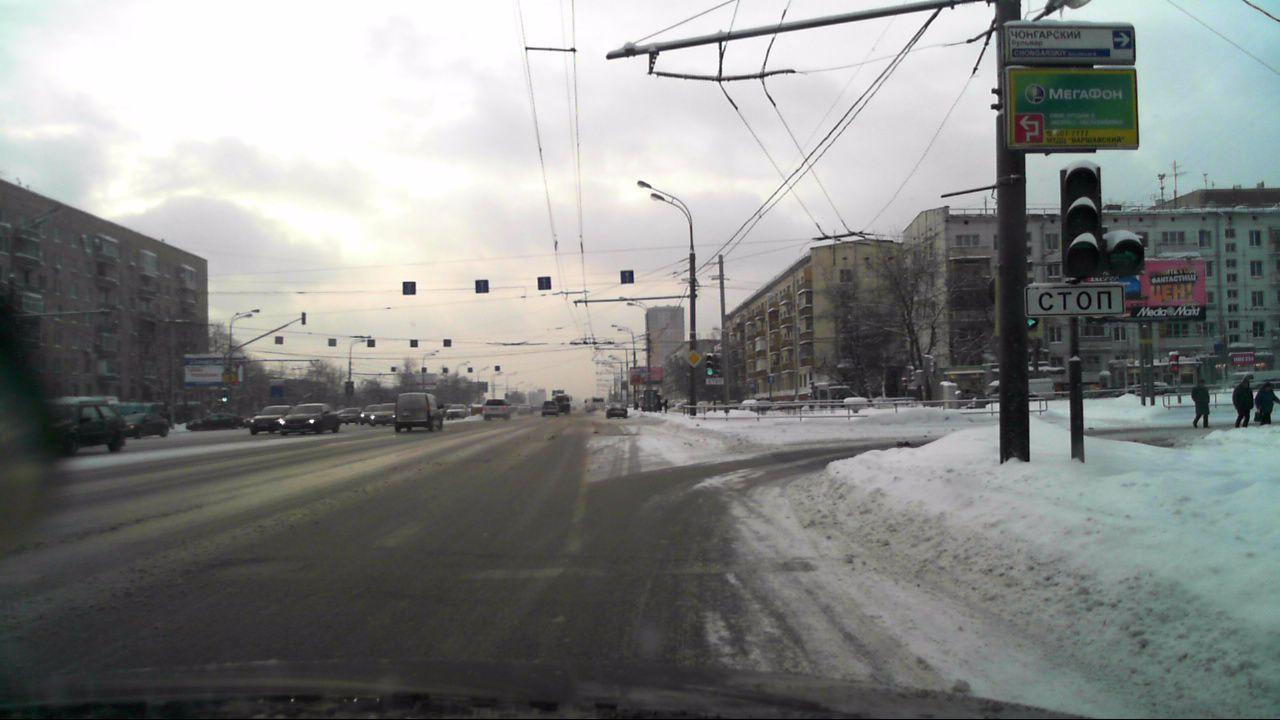2_1: (683, 348, 702, 366)
4_1_1: (767, 375, 775, 383)
5_15_2: (474, 278, 489, 294), (537, 276, 552, 292), (402, 281, 417, 295), (621, 270, 633, 285)
6_16: (1027, 286, 1123, 317), (706, 377, 724, 385)
